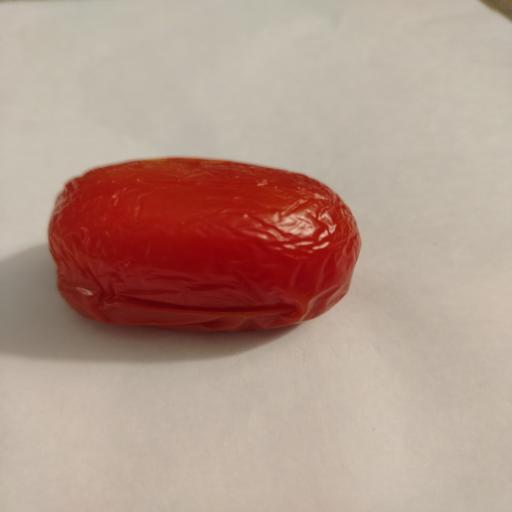spoiled: (49, 158, 360, 331)
